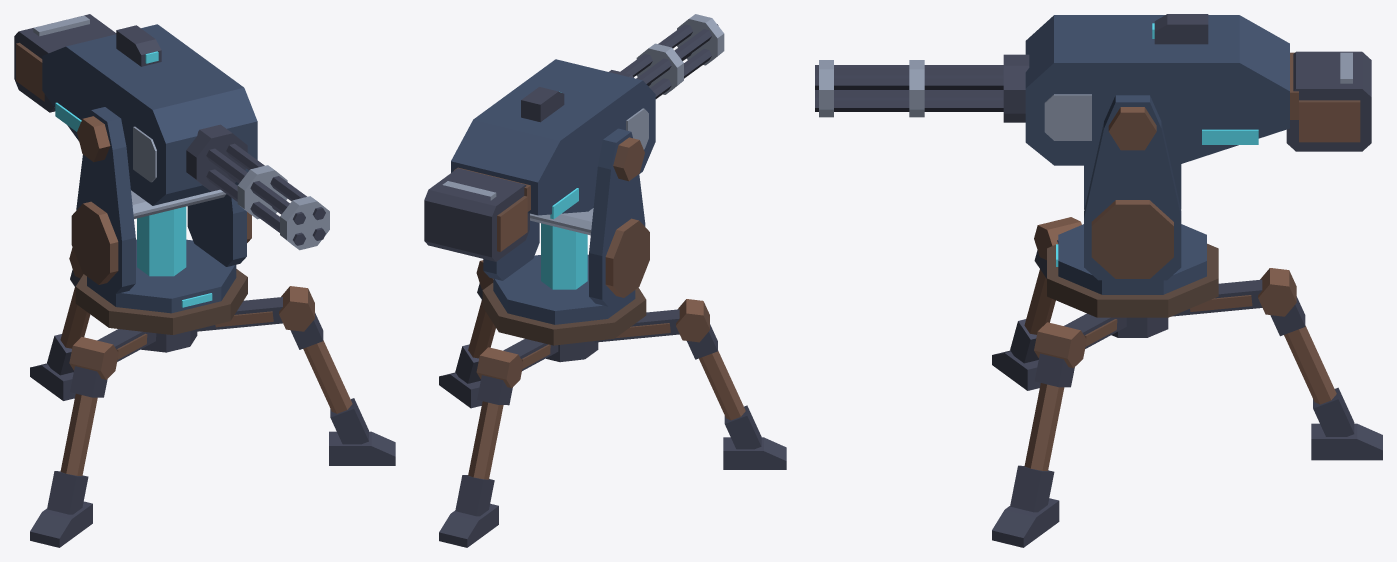
File: deployable-turret-5b8110.glb
3 views of the same model, side by side, from view 1: azimuth 30°, elevation 25°; view 2: azimuth 150°, elevation 25°; view 3: azimuth 270°, elevation 25° (orthographic). The views are drawn at different scales.
Visible parts, largest first — view 1: head, yaw-body, emitter-mesh-metal, base, lower-3-metal, lower-1-metal, yaw-body-crystal, lower-3, lower-1, feed-box-mesh-metal, head-metal, lower-2-metal (+8 smaller); view 2: head, yaw-body, feed-box-mesh-metal, emitter-mesh-metal, base, lower-2-metal, lower-3-metal, lower-2, yaw-body-crystal, lower-3, head-metal, lower-1-metal (+7 smaller); view 3: head, yaw-body, emitter-mesh-metal, feed-box-mesh-metal, base, lower-1-metal, lower-2-metal, head-metal, lower-1, lower-2, feed-box-mesh, lower-3-metal (+5 smaller).
Boxes of the visible parts, x1=… form: head: x1=42, y1=24, x2=257, y2=205; yaw-body: x1=71, y1=107, x2=251, y2=313; emitter-mesh-metal: x1=186, y1=124, x2=329, y2=250; base: x1=75, y1=269, x2=247, y2=334; lower-3-metal: x1=30, y1=366, x2=107, y2=547; lower-1-metal: x1=290, y1=313, x2=395, y2=465; yaw-body-crystal: x1=137, y1=206, x2=212, y2=307; lower-3: x1=60, y1=337, x2=118, y2=475; lower-1: x1=279, y1=286, x2=352, y2=413; feed-box-mesh-metal: x1=14, y1=14, x2=116, y2=112; head-metal: x1=116, y1=25, x2=161, y2=182; lower-2-metal: x1=30, y1=270, x2=80, y2=400; head: x1=451, y1=59, x2=655, y2=215; yaw-body: x1=483, y1=128, x2=649, y2=324; feed-box-mesh-metal: x1=424, y1=168, x2=529, y2=261; emitter-mesh-metal: x1=609, y1=14, x2=724, y2=98; base: x1=482, y1=283, x2=646, y2=345; lower-2-metal: x1=439, y1=375, x2=512, y2=547; lower-3-metal: x1=687, y1=324, x2=786, y2=469; lower-2: x1=468, y1=347, x2=523, y2=479; yaw-body-crystal: x1=541, y1=223, x2=587, y2=289; lower-3: x1=676, y1=299, x2=745, y2=420; head-metal: x1=521, y1=87, x2=648, y2=149; lower-1-metal: x1=439, y1=283, x2=482, y2=408; head: x1=1025, y1=15, x2=1298, y2=165; yaw-body: x1=1058, y1=95, x2=1206, y2=294; emitter-mesh-metal: x1=815, y1=54, x2=1029, y2=122; feed-box-mesh-metal: x1=1286, y1=51, x2=1371, y2=151; base: x1=1047, y1=243, x2=1218, y2=317; lower-1-metal: x1=992, y1=353, x2=1074, y2=547; lower-2-metal: x1=1270, y1=296, x2=1382, y2=460; head-metal: x1=1044, y1=14, x2=1208, y2=140; lower-1: x1=1024, y1=322, x2=1086, y2=470; lower-2: x1=1258, y1=268, x2=1336, y2=404; feed-box-mesh: x1=1299, y1=100, x2=1360, y2=142; lower-3-metal: x1=992, y1=250, x2=1046, y2=390.
Size of the model in its own units: 0.7897 by 0.836 by 0.9929.
